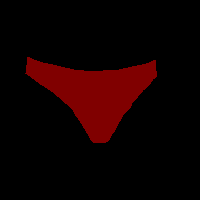mutande: (25, 56, 157, 143)
